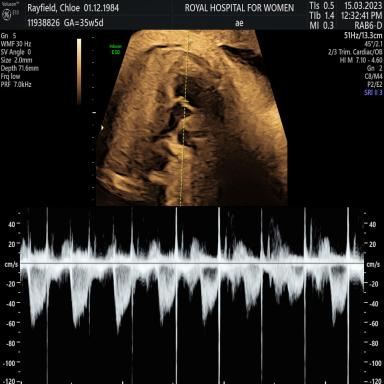Ultrasound-Waves: (27, 207, 361, 384)
